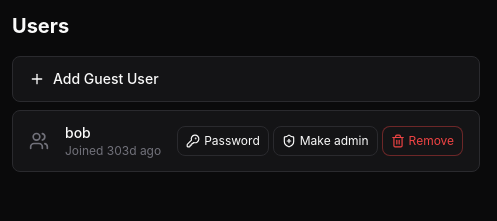
Test: UsersSection admin status + deletion (#274) › replaces a stale delete error with the later admin-toggle error
This screenshot has width=497, height=221.
Expected: the text "bob" is shown, [65, 123, 91, 143]
Click the button "Remove" at (422,141), box [382, 126, 463, 156]
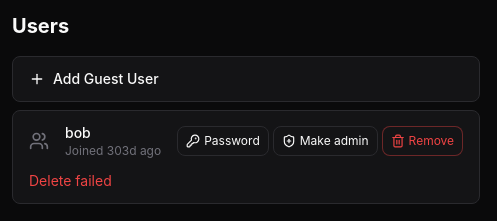
Expected: the text "Delete failed" is shown, [29, 172, 112, 189]
Click the button "Make admin" at (325,141), box [273, 126, 378, 156]
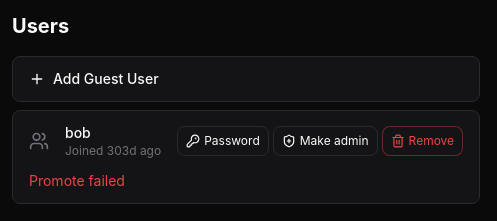
Expected: the text "Promote failed" is shown, [29, 172, 125, 189]
Expected: the text "Delete failed" is gone
